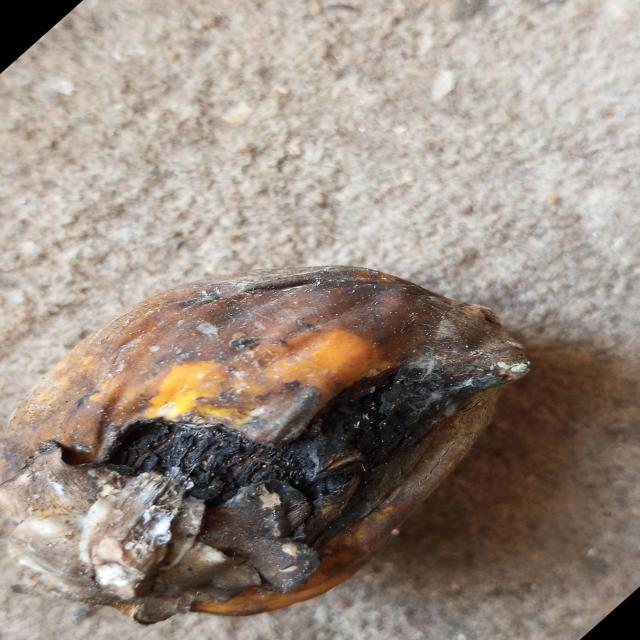damaged: (0, 269, 531, 625)
